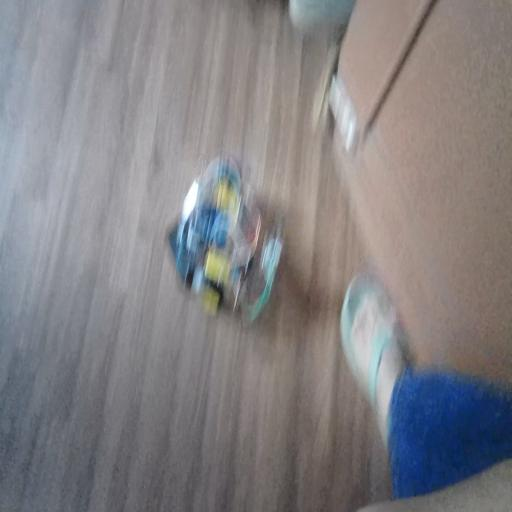car: (175, 181, 304, 324)
